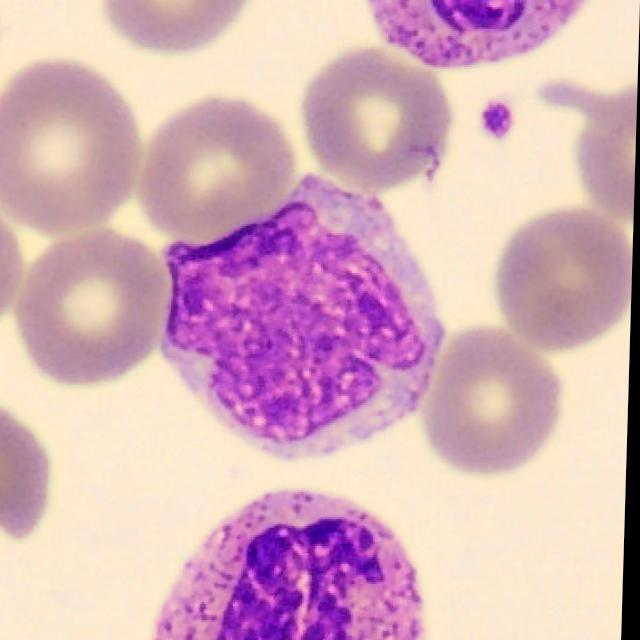Monocito: (163, 175, 447, 459)
